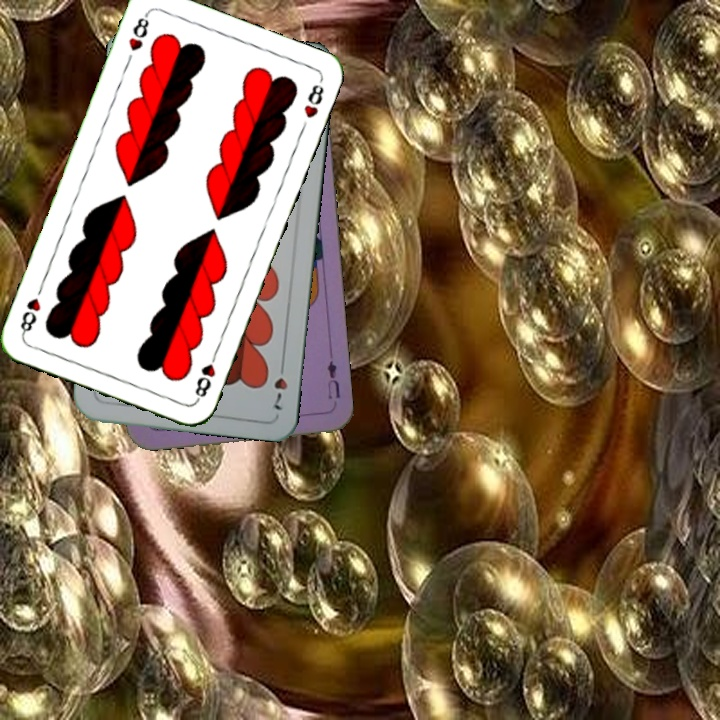EU: (323, 356, 343, 402)
H7: (270, 356, 290, 412)
H8: (191, 347, 220, 404), (124, 9, 152, 54)
